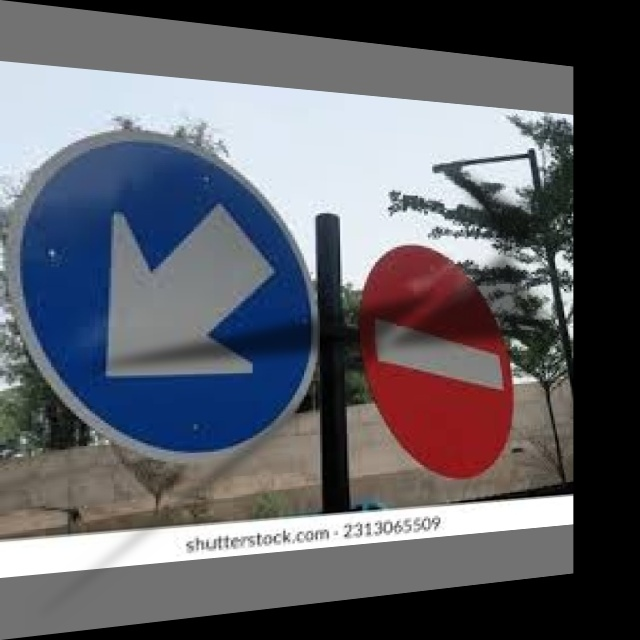Compulsory_Keep_Left: (15, 130, 326, 447)
